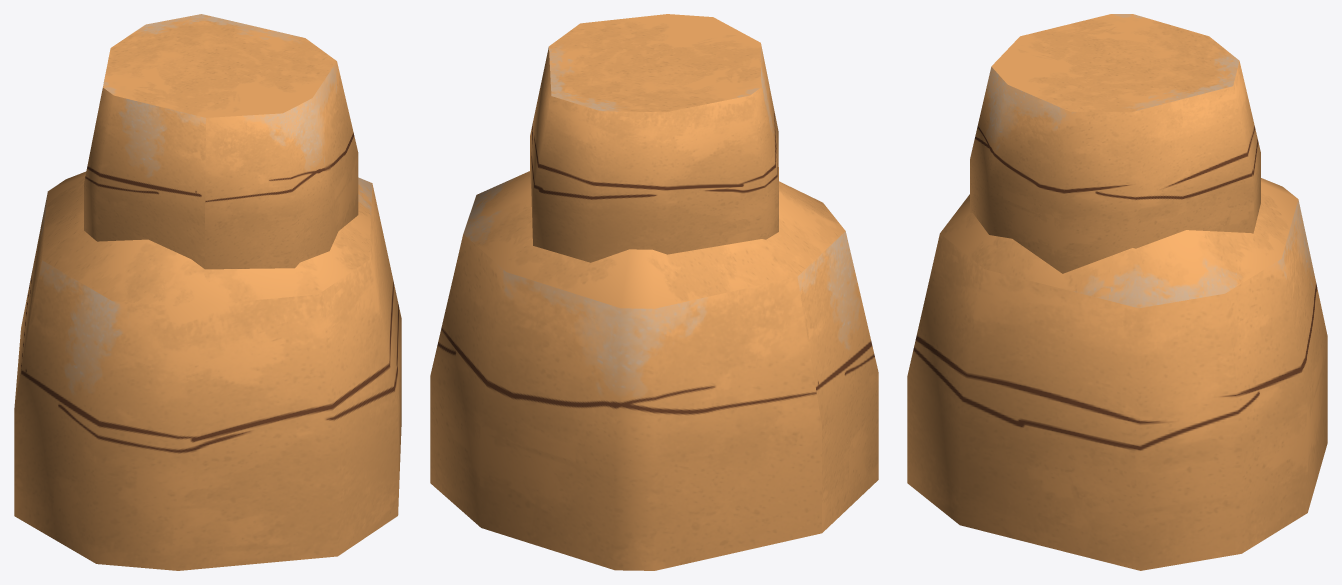
File: Rock_02.fbx
The picture shows the model from 3 angles, left to right: view 1: azimuth 30°, elevation 25°; view 2: azimuth 150°, elevation 25°; view 3: azimuth 270°, elevation 25°; orthographic projection.
Visible parts, largest first — view 1: Cliff02; view 2: Cliff02; view 3: Cliff02.
Boxes of the visible parts, <box> form: Cliff02: <box>14,14,401,570</box>; Cliff02: <box>430,14,878,570</box>; Cliff02: <box>907,14,1327,570</box>.
Size of the model in its own units: 771 by 799 by 740.
Materials: 1 (1 with a texture image).
